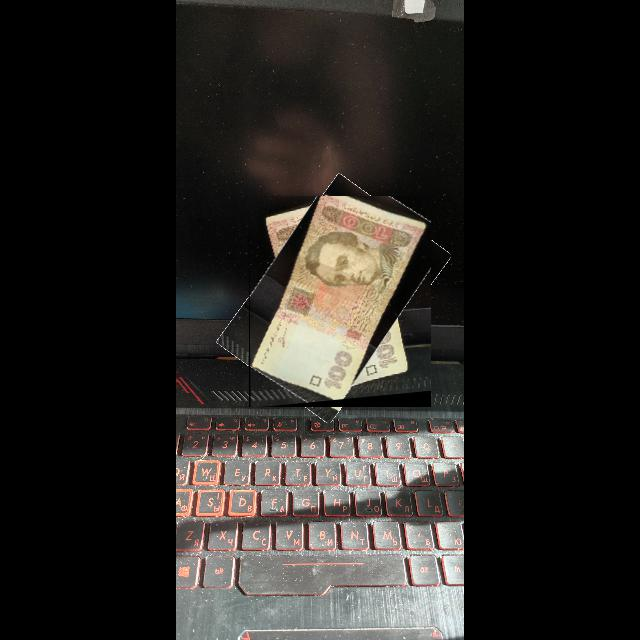100uah: (251, 196, 432, 402)
